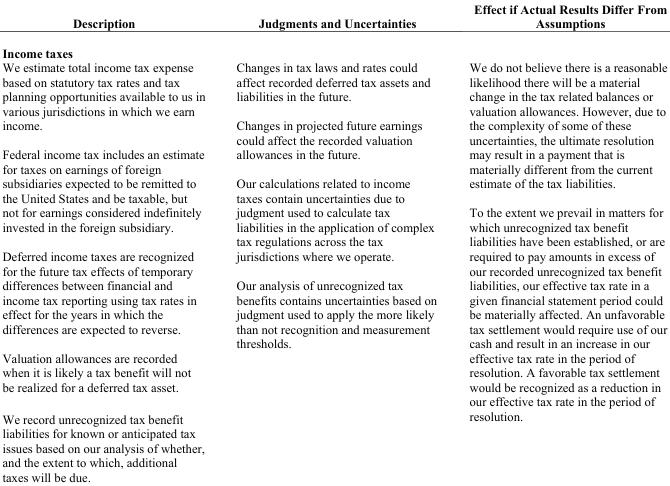table: (1, 1, 666, 483)
table column: (220, 1, 452, 483), (1, 1, 220, 483), (452, 1, 666, 483)
table column header: (1, 1, 666, 37)
table projected row header: (1, 37, 666, 59)
table row: (1, 59, 666, 483), (1, 1, 666, 37), (1, 37, 666, 59)
